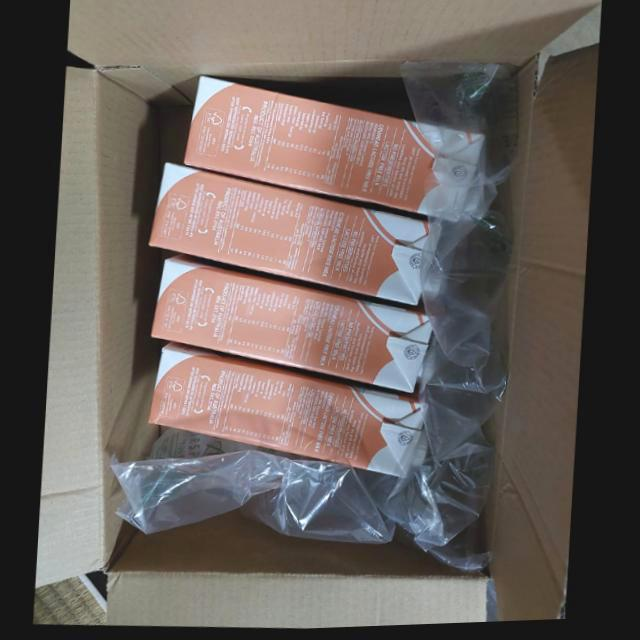cardboard: (36, 65, 199, 589), (490, 46, 599, 625), (67, 0, 600, 100), (102, 511, 491, 631)
